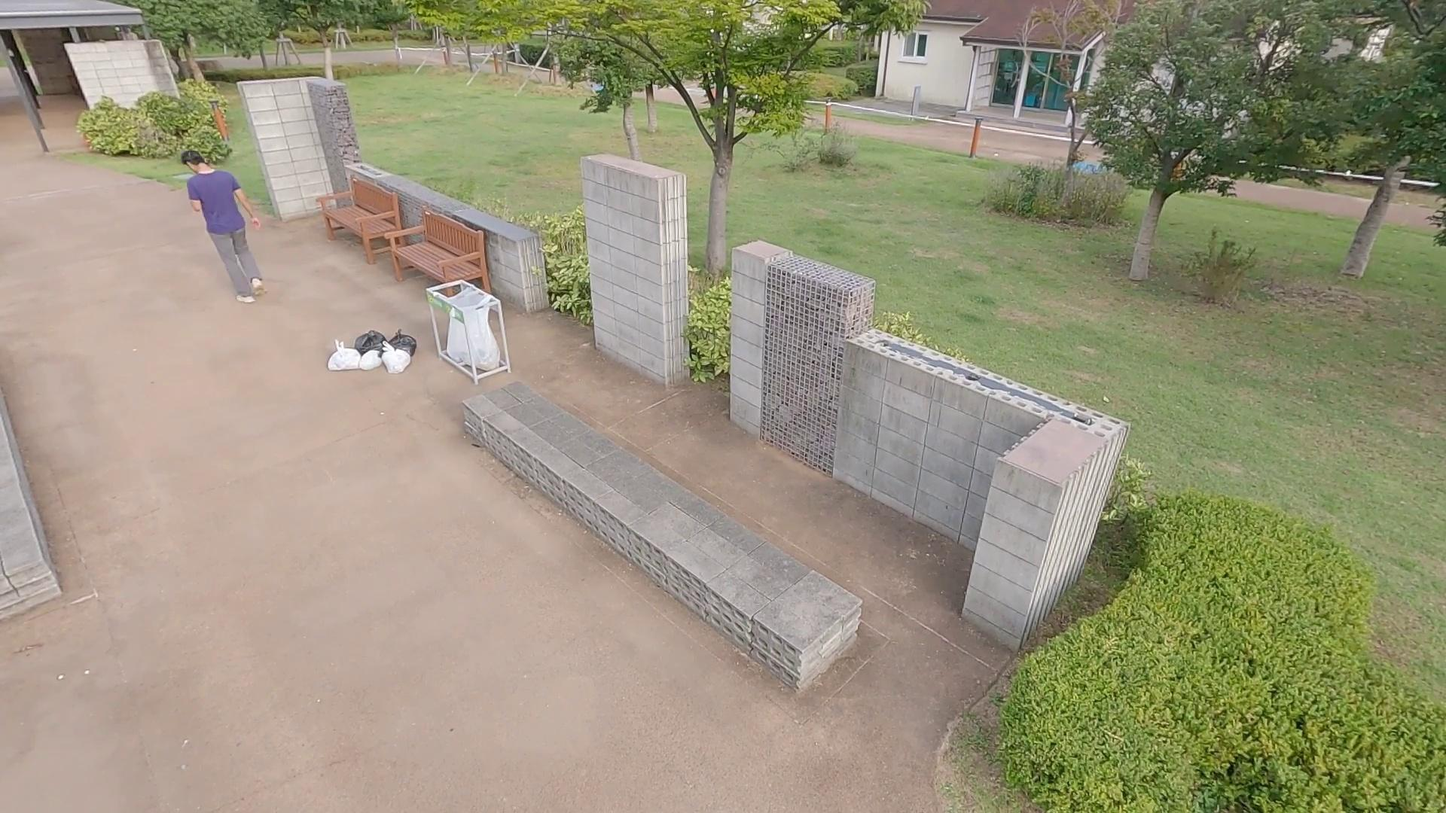person: (172, 141, 281, 308)
trash: (323, 338, 367, 372), (381, 340, 413, 377), (386, 327, 419, 361), (352, 329, 390, 358), (358, 349, 383, 371)
